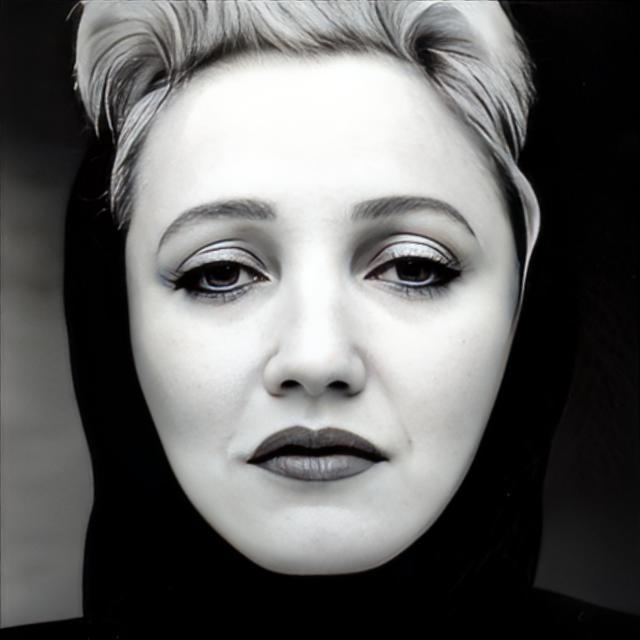sad: (120, 46, 518, 574)
